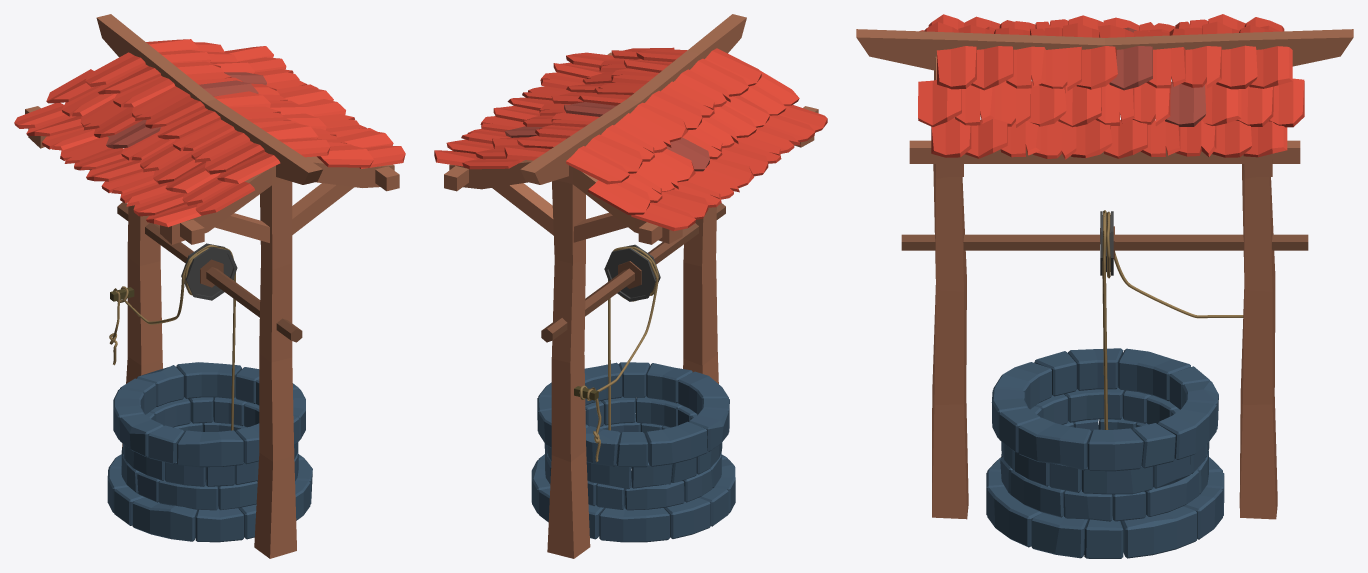
The model's file is well.fbx.
The picture shows the model from 3 angles, left to right: view 1: azimuth 30°, elevation 25°; view 2: azimuth 150°, elevation 25°; view 3: azimuth 270°, elevation 25°; orthographic projection. The views are drawn at different scales.
Parts seen in each view (by area): view 1: well; view 2: well; view 3: well.
Boxes of the visible parts, box(x1,y1,x2,y2) form: well: box(14, 14, 405, 558); well: box(434, 14, 827, 558); well: box(856, 14, 1353, 558).
Bounding box in the file's own units: 395 × 601 × 566.
Materials: 1 (1 with a texture image).
